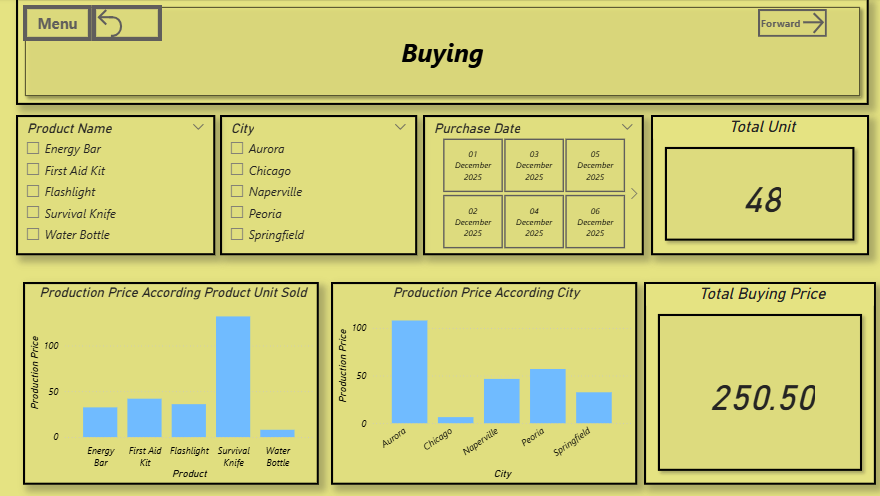

This screenshot's page, from the dashboard's own definition file:
{"tool":"powerbi","page":{"name":"Buying","canvas":[1280,720],"ordinal":1},"visuals":[{"type":"shape","box":[24.5,0,1228.3,154.1],"z":0},{"type":"slicer","fields":{"Values":["Apocolyse_sales.Product_name"]},"box":[24.5,168.5,286.6,201.6],"z":1000},{"type":"slicer","fields":{"Values":["Apocolyse_sales.customer_city"]},"box":[318.2,168.5,283.7,201.6],"z":2000},{"type":"slicer","fields":{"Values":["Apocolyse_sales.date_purchase"]},"box":[610.6,168.5,318.2,201.6],"z":3000},{"type":"columnChart","title":" Production Price According Product Unit Sold","fields":{"Category":["Apocolyse_sales.Product_name"],"Y":["Sum(Apocolyse_sales.Buying_price)"]},"box":[34.6,409,426.2,292.3],"z":4000},{"type":"columnChart","title":" Production Price According City","fields":{"Category":["Apocolyse_sales.customer_city"],"Y":["Sum(Apocolyse_sales.Buying_price)"]},"box":[478.1,409,440.6,292.3],"z":5000},{"type":"cardVisual","title":"Total Buying Price","fields":{"Data":["Sum(Apocolyse_sales.Buying_price)"]},"box":[928.8,409,334.1,292.3],"z":6000},{"type":"cardVisual","title":"Total Unit","fields":{"Data":["Sum(Apocolyse_sales.units_sold)"]},"box":[938.9,168.5,313.9,201.6],"z":7000},{"type":"actionButton","title":"Forward","box":[1093,15.8,99.4,40.3],"z":8000},{"type":"actionButton","box":[34.6,10.1,99.4,51.8],"z":10000},{"type":"actionButton","box":[133.9,10.1,100.8,51.8],"z":11000}]}

Visuals, with their boxes in screenshot pixels (x1, y1, x2, y2), scaled from the page's 1280x720 canvas onto the 880x496 screenshot:
shape: pyautogui.locateOnScreen(17, 0, 861, 106)
slicer - Apocolyse_sales.Product_name: pyautogui.locateOnScreen(17, 116, 214, 255)
slicer - Apocolyse_sales.customer_city: pyautogui.locateOnScreen(219, 116, 414, 255)
slicer - Apocolyse_sales.date_purchase: pyautogui.locateOnScreen(420, 116, 639, 255)
" Production Price According Product Unit Sold" columnChart: pyautogui.locateOnScreen(24, 282, 317, 483)
" Production Price According City" columnChart: pyautogui.locateOnScreen(329, 282, 632, 483)
"Total Buying Price" cardVisual: pyautogui.locateOnScreen(639, 282, 868, 483)
"Total Unit" cardVisual: pyautogui.locateOnScreen(645, 116, 861, 255)
"Forward" actionButton: pyautogui.locateOnScreen(751, 11, 820, 39)
actionButton: pyautogui.locateOnScreen(24, 7, 92, 43)
actionButton: pyautogui.locateOnScreen(92, 7, 161, 43)
